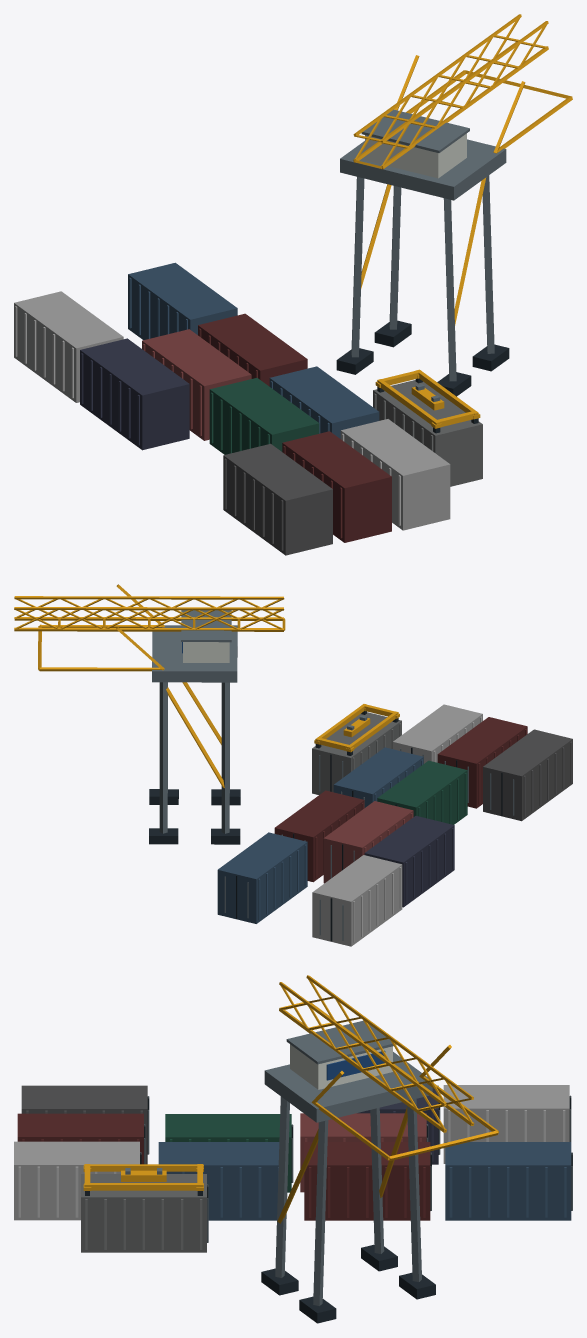
The model's file is gantry-crane-n-s-03.glb.
The picture shows the model from 3 angles, top to bottom: view 1: azimuth 30°, elevation 25°; view 2: azimuth 150°, elevation 25°; view 3: azimuth 270°, elevation 25°; orthographic projection. The views are drawn at different scales.
Parts seen in each view (by area): view 1: gantry-crane-n-s-03; view 2: gantry-crane-n-s-03; view 3: gantry-crane-n-s-03.
Part boxes in pixels (x1,y1,x2,y2): gantry-crane-n-s-03: [14, 14, 572, 555]; gantry-crane-n-s-03: [14, 584, 572, 946]; gantry-crane-n-s-03: [14, 975, 572, 1323].
Size of the model in its own units: 57.97 by 31.18 by 58.54.
